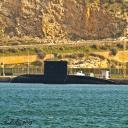submarine: (10, 62, 119, 86)
